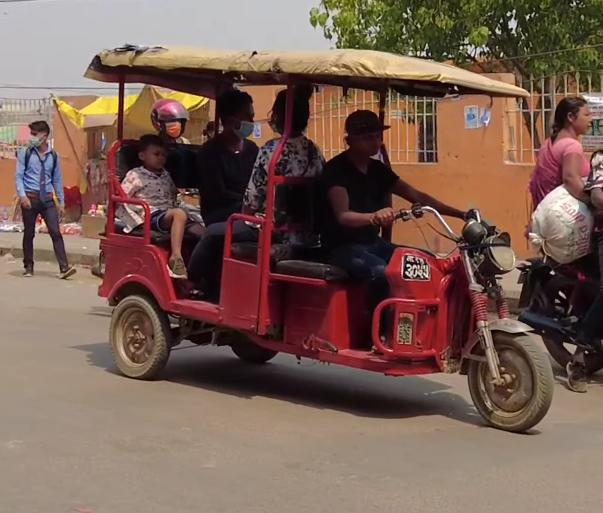e-rickshaw: (77, 38, 557, 434)
